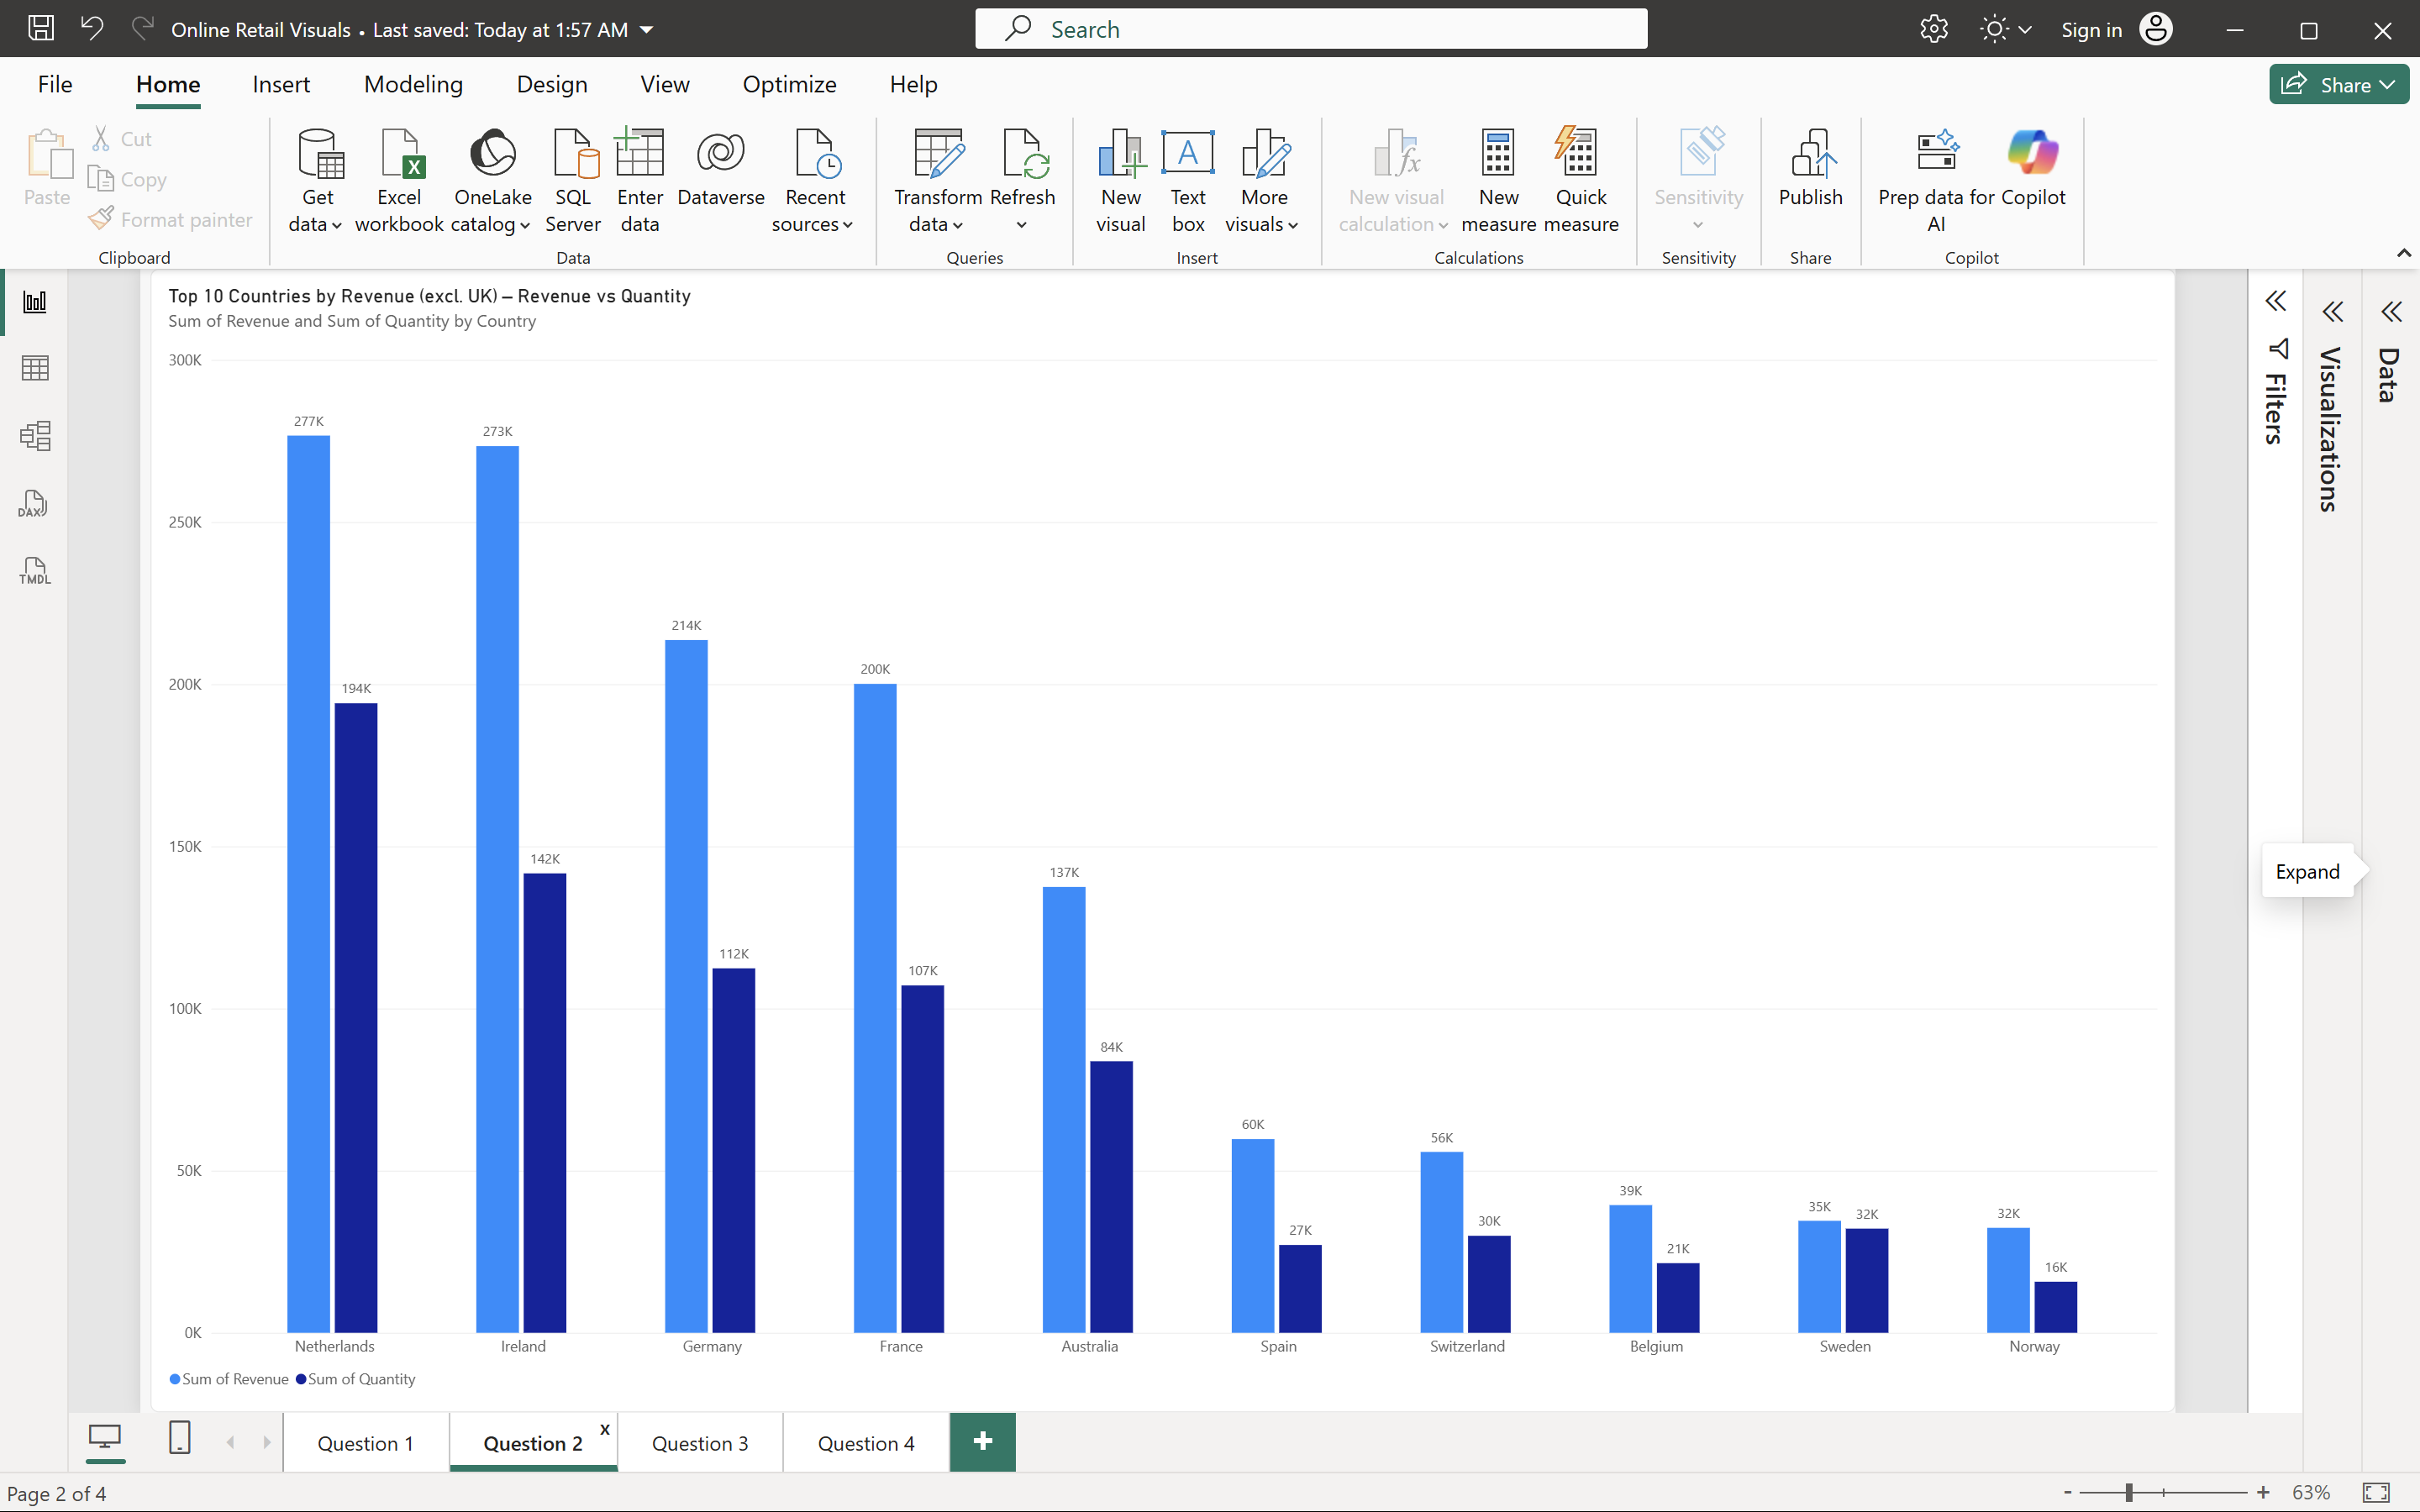

The dashboard page shown, as its layout file describes it:
{"tool":"powerbi","page":{"name":"Question 2","canvas":[1920,1080],"ordinal":1},"visuals":[{"type":"clusteredColumnChart","title":"Top 10 Countries by Revenue (excl. UK) – Revenue vs Quantity","fields":{"Category":["Online Retail.Country"],"Y":["Sum(Online Retail.Revenue)","Sum(Online Retail.Quantity)"]},"box":[9.2,0,1910.8,1079.4],"z":0}]}

Visuals, with their boxes on the page's 1920x1080 design canvas (x1, y1, x2, y2). These are canvas units, not pixel positions in the 2420x1512 screenshot, which may show the page scaled, cropped or inside an application window:
"Top 10 Countries by Revenue (excl. UK) – Revenue vs Quantity" clusteredColumnChart: (9, 0, 1920, 1079)
